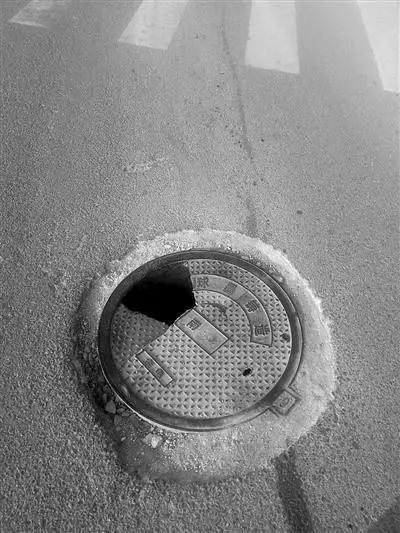wellcover: (98, 230, 326, 455)
